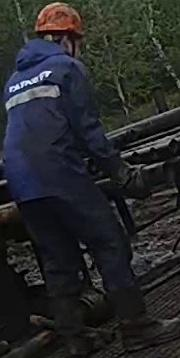gloves: (100, 152, 133, 190)
helmet: (34, 2, 87, 45)
vest: (2, 38, 101, 203)
